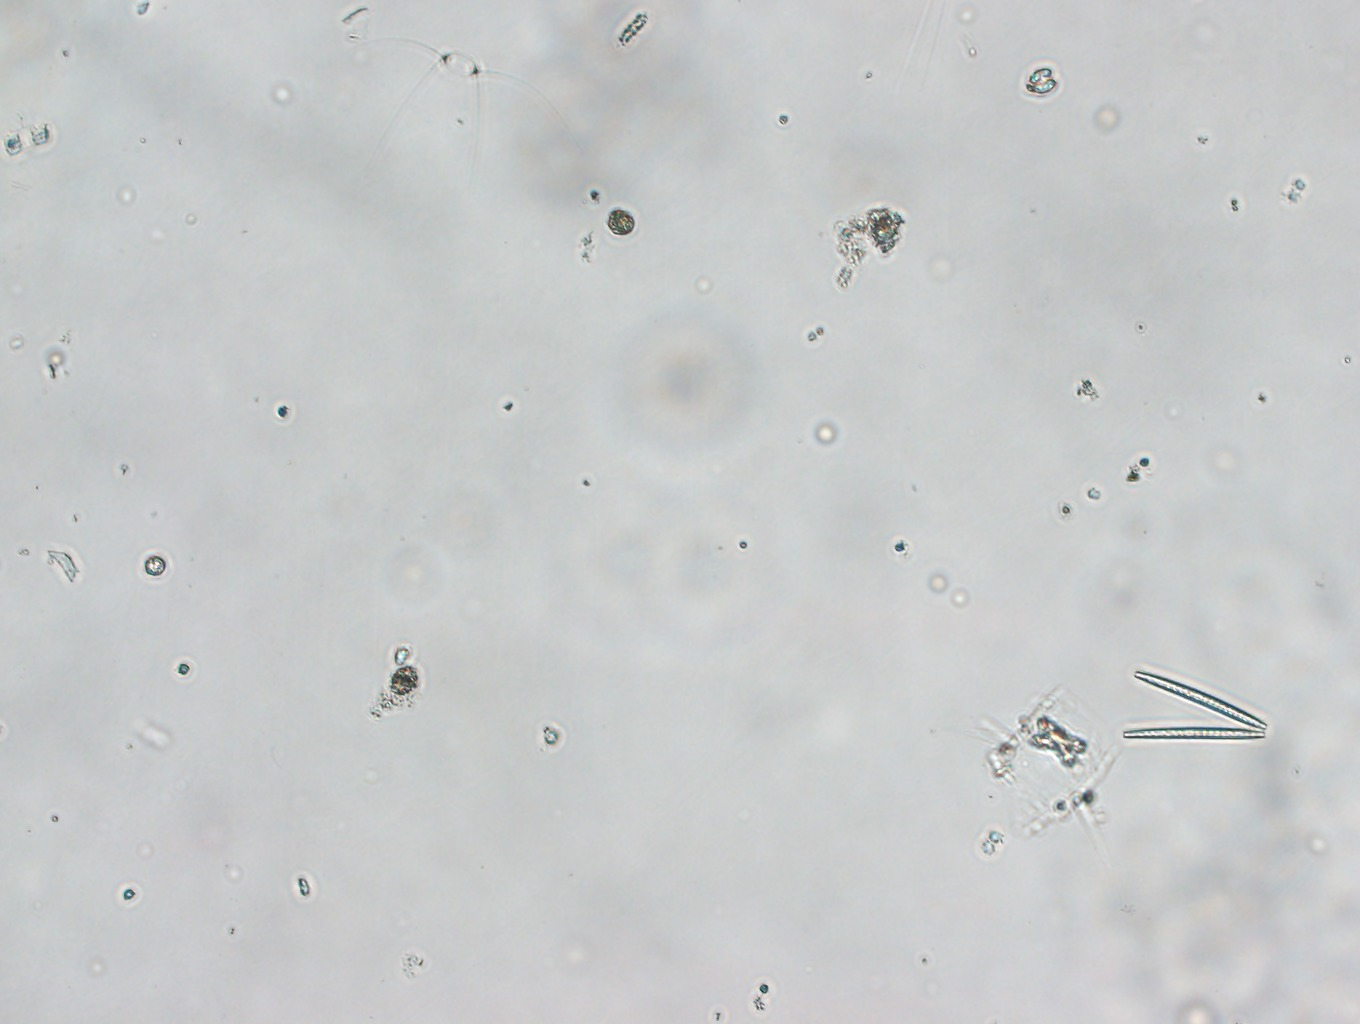thalassionema frauenfeldii: (1114, 654, 1288, 760)
